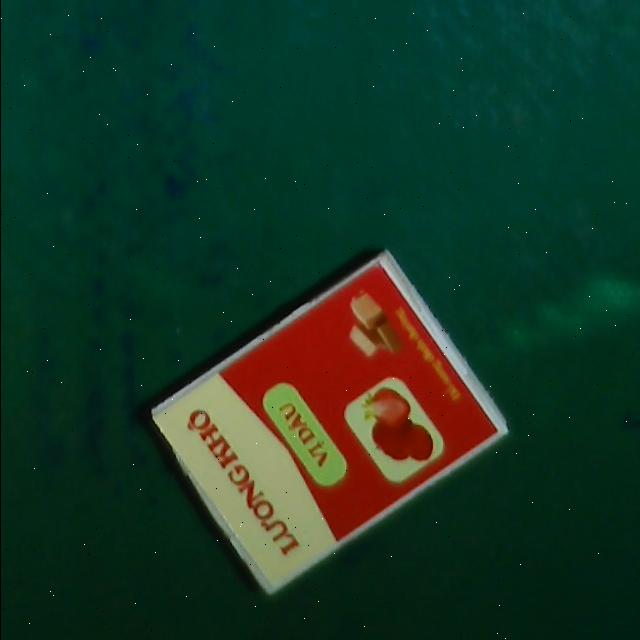dau: (141, 246, 512, 598)
